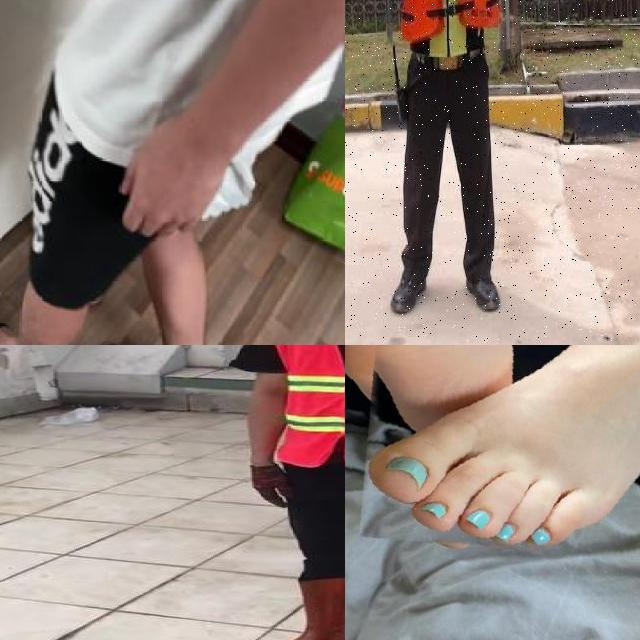Barefoots: (345, 345, 640, 560)
boots: (273, 577, 345, 640), (462, 255, 504, 317), (389, 255, 429, 320)
hand_glove: (249, 466, 293, 508)
person: (345, 0, 639, 341), (222, 345, 345, 640)
vest: (275, 345, 345, 471), (399, 0, 502, 66)
